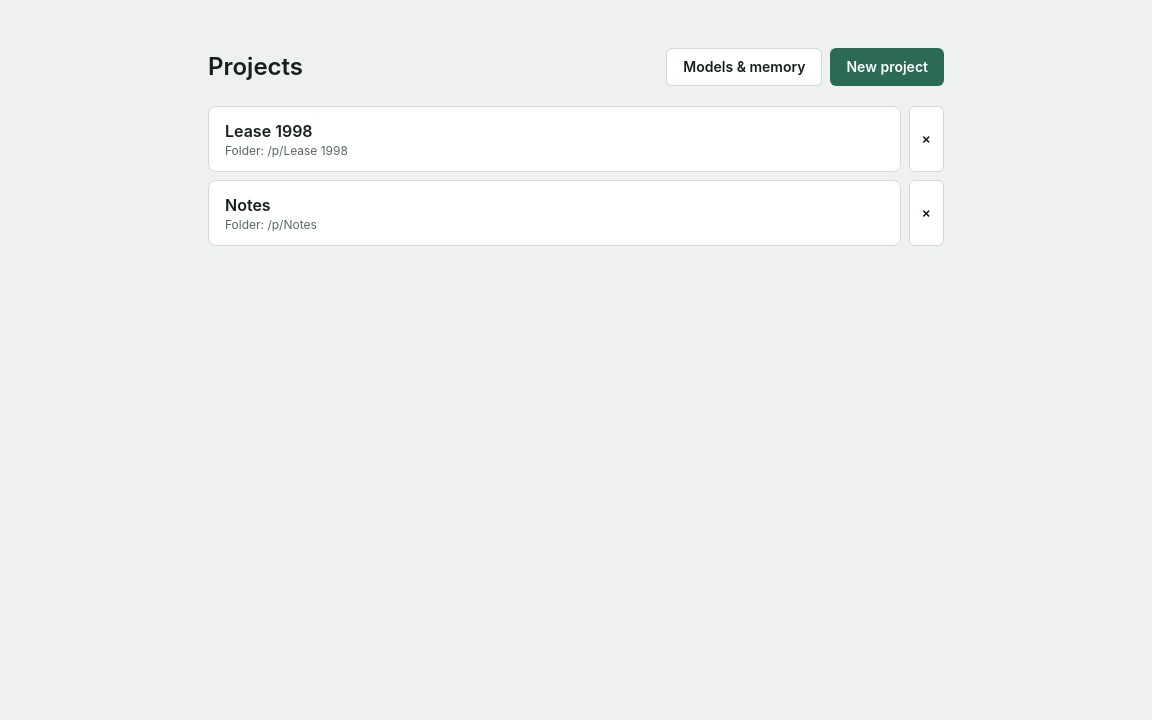
Test: Removing a project › closes on Cancel and on Escape without removing anything
Click the button named "Remove Notes". click: point(926, 213)
box: top-left (909, 180), bottom-right (944, 246)
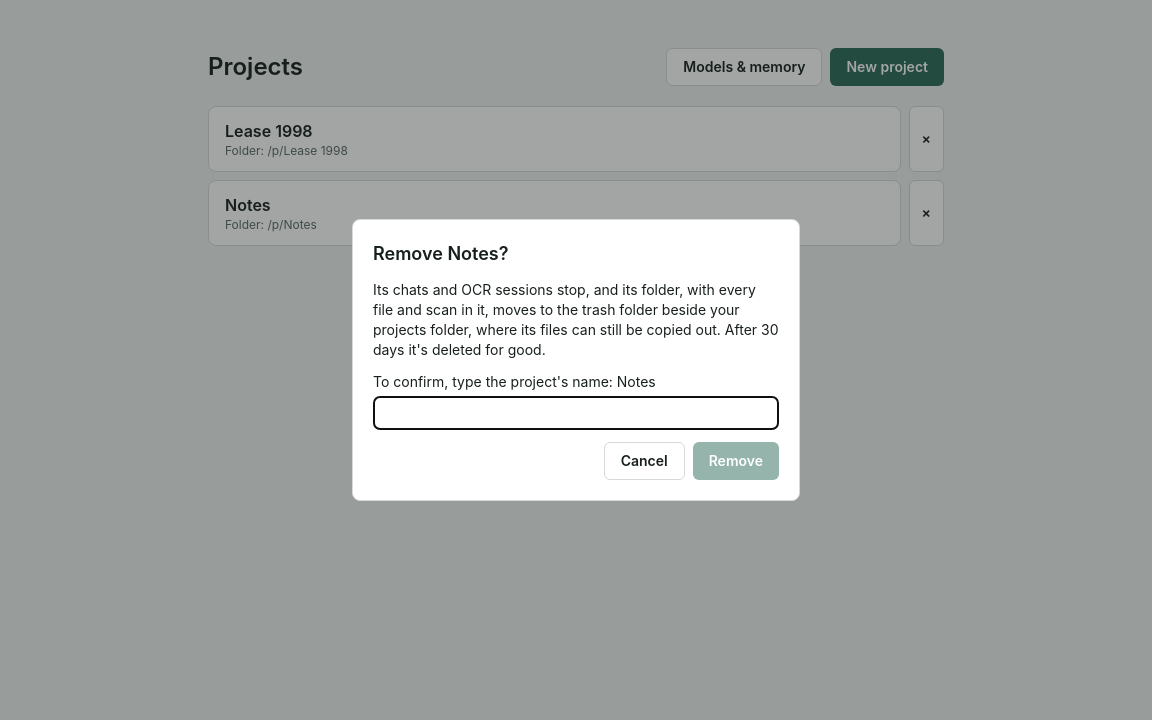
Click the button "Cancel". click: point(644, 461)
box: top-left (604, 442), bottom-right (685, 480)
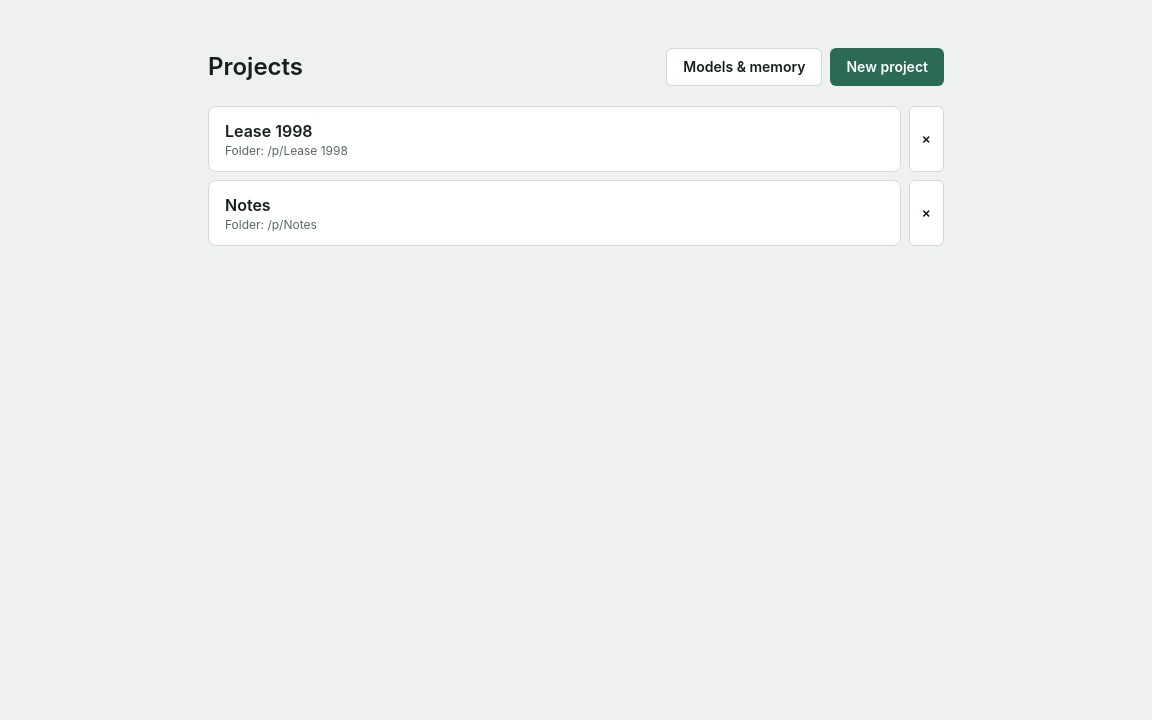
Expected: the dialog is gone
Click the button named "Remove Notes". click: point(926, 213)
box: top-left (909, 180), bottom-right (944, 246)
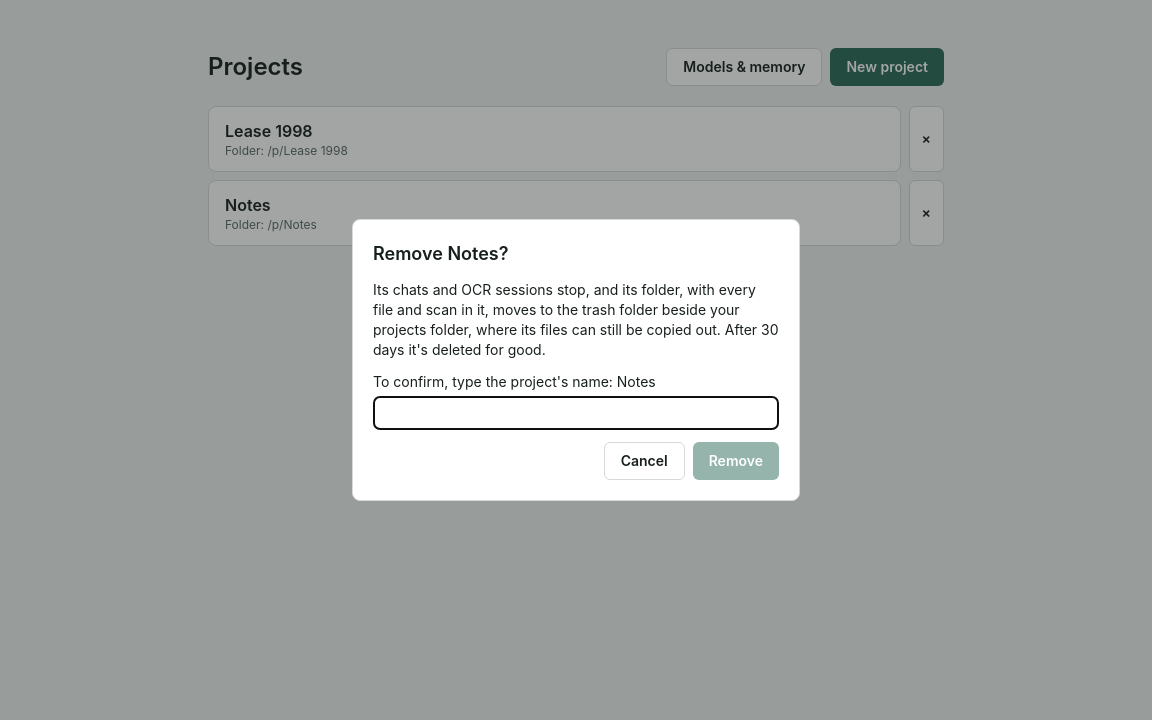
Press Escape in the dialog, box top-left (352, 219), bottom-right (800, 501)
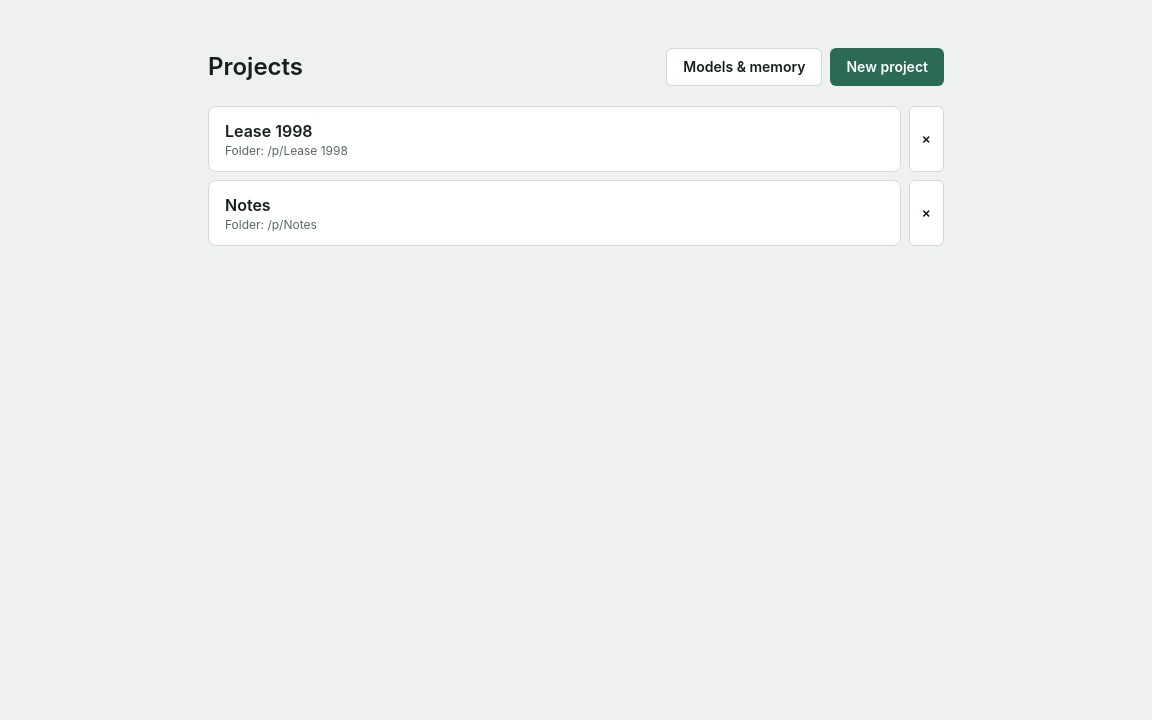
Expected: the dialog is gone
